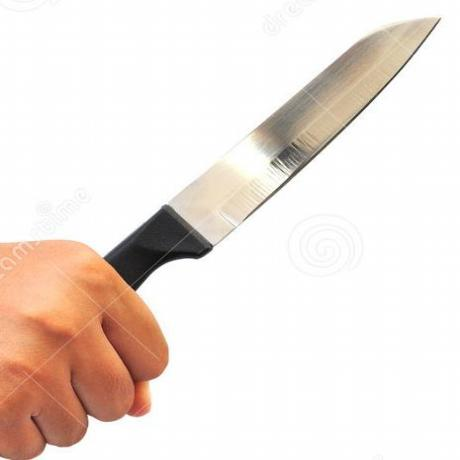1: (1, 233, 174, 460)
weapon: (103, 19, 438, 310)
